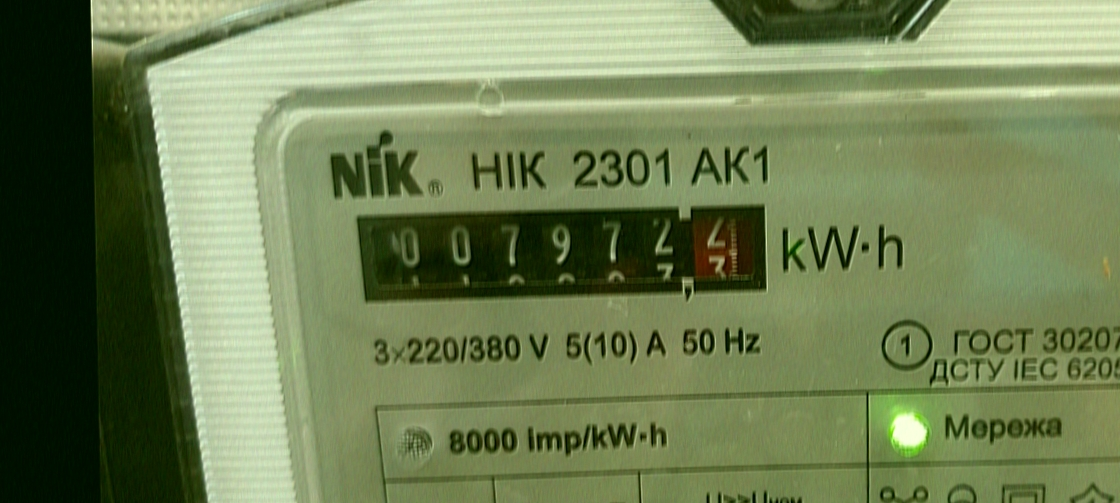0: (396, 225, 422, 267), (447, 223, 472, 265)
2: (650, 217, 674, 255), (702, 216, 726, 250)
3: (705, 253, 727, 279)
7: (598, 218, 624, 265), (497, 222, 522, 267)
9: (548, 221, 571, 265)
screen: (339, 193, 783, 316)
